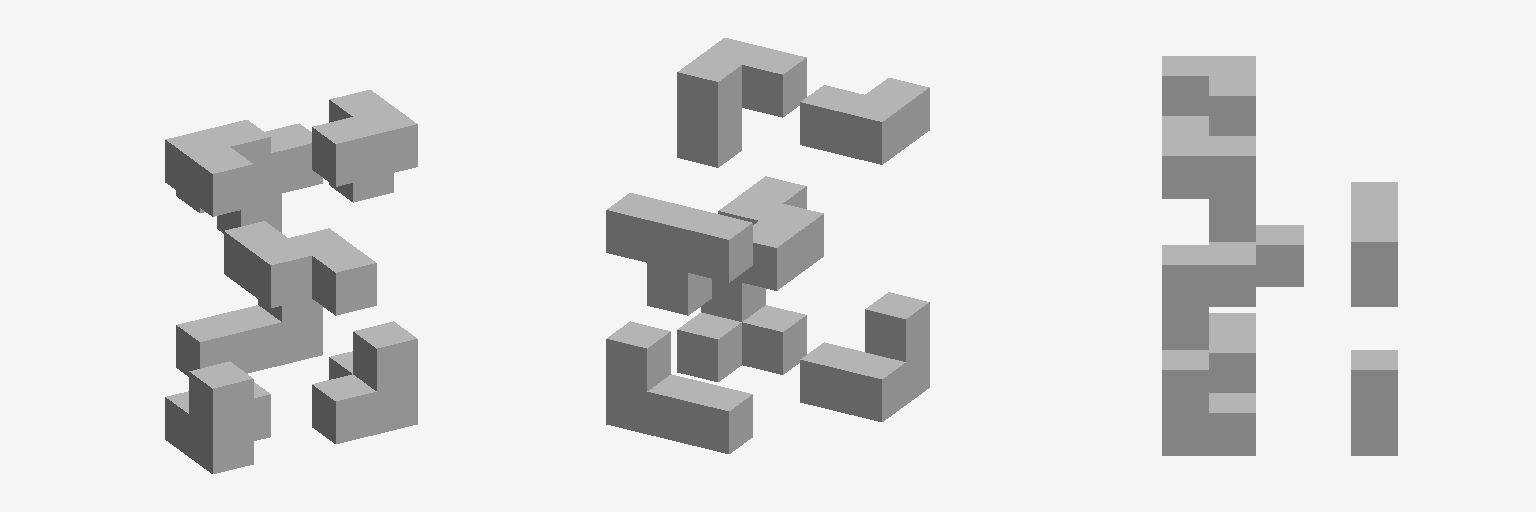
Rendered from E2-Soma-Expl.obj.
3 renders of one model, left to right at view 1: azimuth 30°, elevation 25°; view 2: azimuth 150°, elevation 25°; view 3: azimuth 270°, elevation 25°, orthographic.
Visible parts, largest first — view 1: mesh59, mesh3, mesh24, mesh55, mesh45, mesh13, mesh41, mesh51, mesh31, mesh35, mesh26, mesh7 (+15 smaller); view 2: mesh4, mesh14, mesh24, mesh38, mesh33, mesh47, mesh41, mesh9, mesh31, mesh51, mesh35, mesh48 (+21 smaller); view 3: mesh50, mesh60, mesh2, mesh20, mesh24, mesh9, mesh31, mesh51, mesh8, mesh42, mesh18, mesh28 (+7 smaller).
Boxes of the visible parts, box(x1,y1,x2,y2) form: mesh59: box(336, 339, 417, 443); mesh3: box(200, 299, 322, 373); mesh24: box(225, 221, 375, 272); mesh55: box(336, 124, 417, 186); mesh45: box(213, 379, 253, 473); mesh13: box(200, 143, 322, 232); mesh41: box(165, 372, 212, 473); mesh51: box(313, 90, 416, 143); mesh31: box(165, 120, 270, 173); mesh35: box(165, 140, 212, 216); mesh26: box(224, 231, 270, 307); mesh7: box(177, 305, 280, 341); mesh4: box(606, 339, 728, 453); mesh14: box(606, 210, 728, 315); mesh24: box(719, 176, 823, 247); mesh38: box(800, 360, 881, 421); mesh33: box(800, 102, 881, 164); mesh47: box(677, 72, 717, 167); mesh41: box(882, 302, 929, 421); mesh9: box(607, 193, 751, 239); mesh31: box(801, 78, 929, 121); mesh51: box(678, 38, 806, 81); mesh35: box(882, 88, 929, 164); mesh48: box(718, 65, 741, 167); mesh50: box(1162, 156, 1255, 241); mesh60: box(1162, 370, 1255, 455); mesh2: box(1351, 370, 1397, 455); mesh20: box(1162, 265, 1255, 306); mesh24: box(1162, 225, 1303, 264); mesh9: box(1351, 182, 1397, 241); mesh31: box(1162, 56, 1255, 95); mesh51: box(1162, 116, 1255, 155); mesh8: box(1351, 242, 1397, 284); mesh42: box(1162, 307, 1208, 349); mesh18: box(1256, 245, 1303, 286); mesh28: box(1162, 76, 1208, 115).
Size of the model in its own units: 0.09 by 0.126 by 0.09.